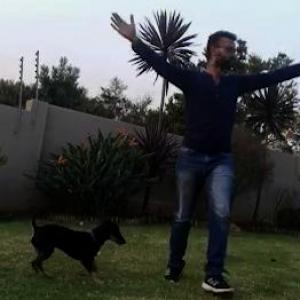takeoff: (130, 0, 299, 297)
